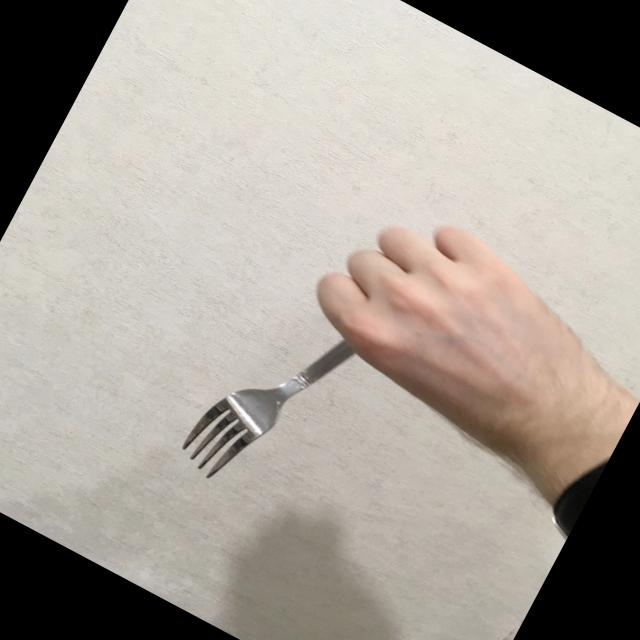fork: (170, 269, 372, 513)
